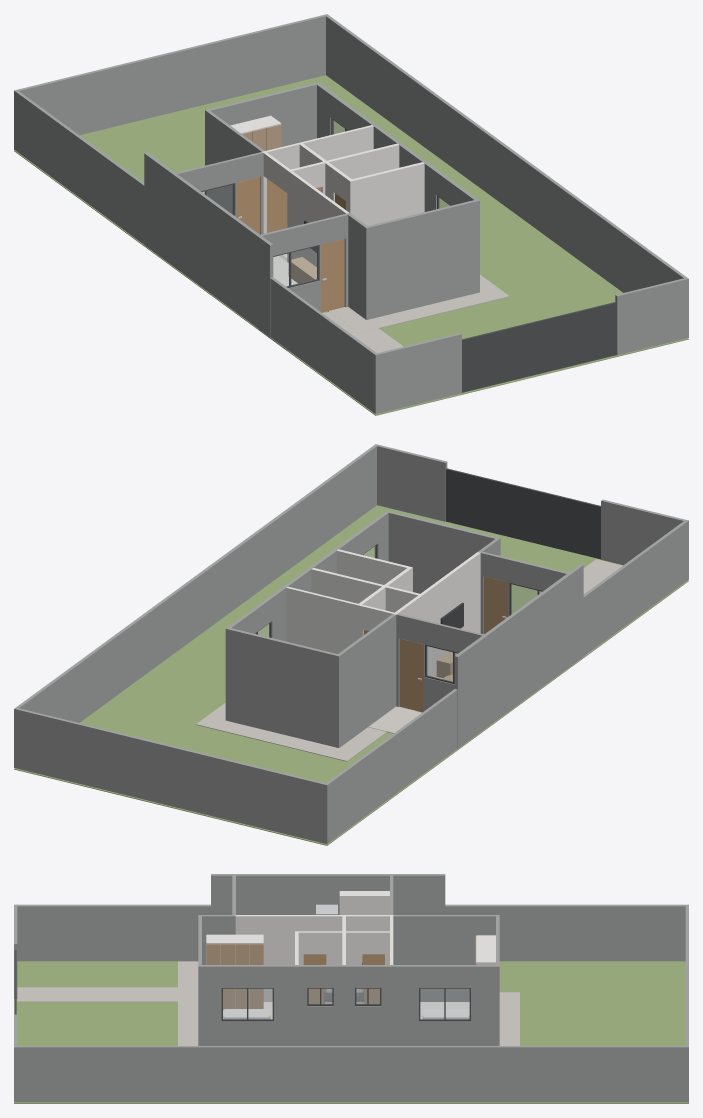
Rendered from casa.glb.
The picture shows the model from 3 angles, top to bottom: view 1: azimuth 30°, elevation 25°; view 2: azimuth 150°, elevation 25°; view 3: azimuth 270°, elevation 25°; orthographic projection. The views are drawn at different scales.
Visible parts, largest first — view 1: fachada, grama, parede, esquadria, concreto, vidro, door4_swing__porta, madeira, door5_swing__porta, door0_swing__porta; view 2: fachada, grama, parede, esquadria, concreto, door5_swing__porta, vidro, door4_swing__porta, externo; view 3: fachada, grama, parede, concreto, vidro, armario, madeira, esquadria, enxoval, piso, door1_swing__porta, door3_swing__porta.
Boxes of the visible parts, x1=… form: fachada: x1=14, y1=14, x2=688, y2=413; grama: x1=14, y1=75, x2=688, y2=415; parede: x1=262, y1=125, x2=424, y2=266; esquadria: x1=201, y1=118, x2=616, y2=392; concreto: x1=202, y1=191, x2=509, y2=352; vidro: x1=202, y1=120, x2=449, y2=286; door4_swing__porta: x1=321, y1=239, x2=344, y2=312; madeira: x1=242, y1=124, x2=316, y2=283; door5_swing__porta: x1=236, y1=177, x2=260, y2=234; door0_swing__porta: x1=267, y1=179, x2=287, y2=232; fachada: x1=14, y1=444, x2=688, y2=843; grama: x1=14, y1=505, x2=688, y2=845; parede: x1=286, y1=549, x2=480, y2=677; esquadria: x1=255, y1=468, x2=600, y2=683; concreto: x1=196, y1=559, x2=622, y2=761; door5_swing__porta: x1=399, y1=638, x2=423, y2=712; vidro: x1=256, y1=546, x2=541, y2=681; door4_swing__porta: x1=484, y1=576, x2=507, y2=634; externo: x1=368, y1=706, x2=421, y2=733; fachada: x1=14, y1=874, x2=688, y2=1102; grama: x1=14, y1=961, x2=688, y2=1103; parede: x1=235, y1=915, x2=393, y2=1001; concreto: x1=17, y1=961, x2=519, y2=1045; vidro: x1=223, y1=988, x2=469, y2=1019; armario: x1=206, y1=891, x2=495, y2=1010; madeira: x1=206, y1=936, x2=476, y2=1017; esquadria: x1=14, y1=950, x2=470, y2=1021; enxoval: x1=224, y1=1009, x2=468, y2=1017; piso: x1=223, y1=989, x2=469, y2=1019; door1_swing__porta: x1=362, y1=954, x2=384, y2=1003; door3_swing__porta: x1=303, y1=954, x2=326, y2=1003.
Size of the model in its own units: 10.01 by 2.85 by 20.
